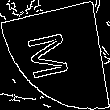M_E: (30, 27, 80, 83)
